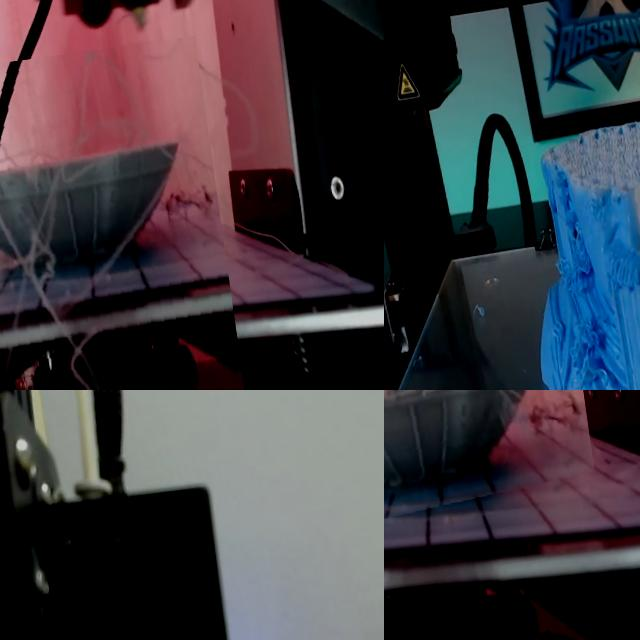spaghetti: (0, 36, 257, 390), (384, 390, 598, 542)
